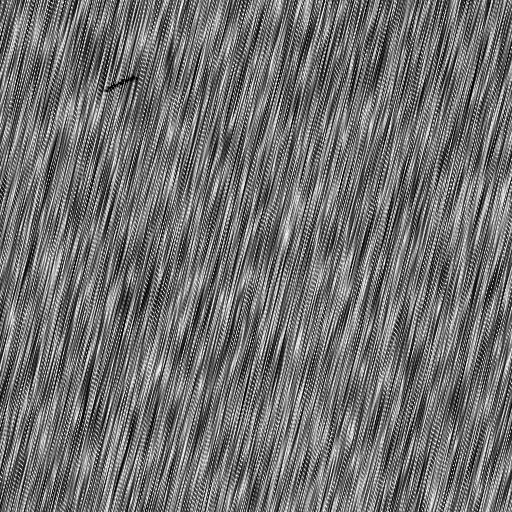DefectTypeC: (105, 77, 140, 93)
